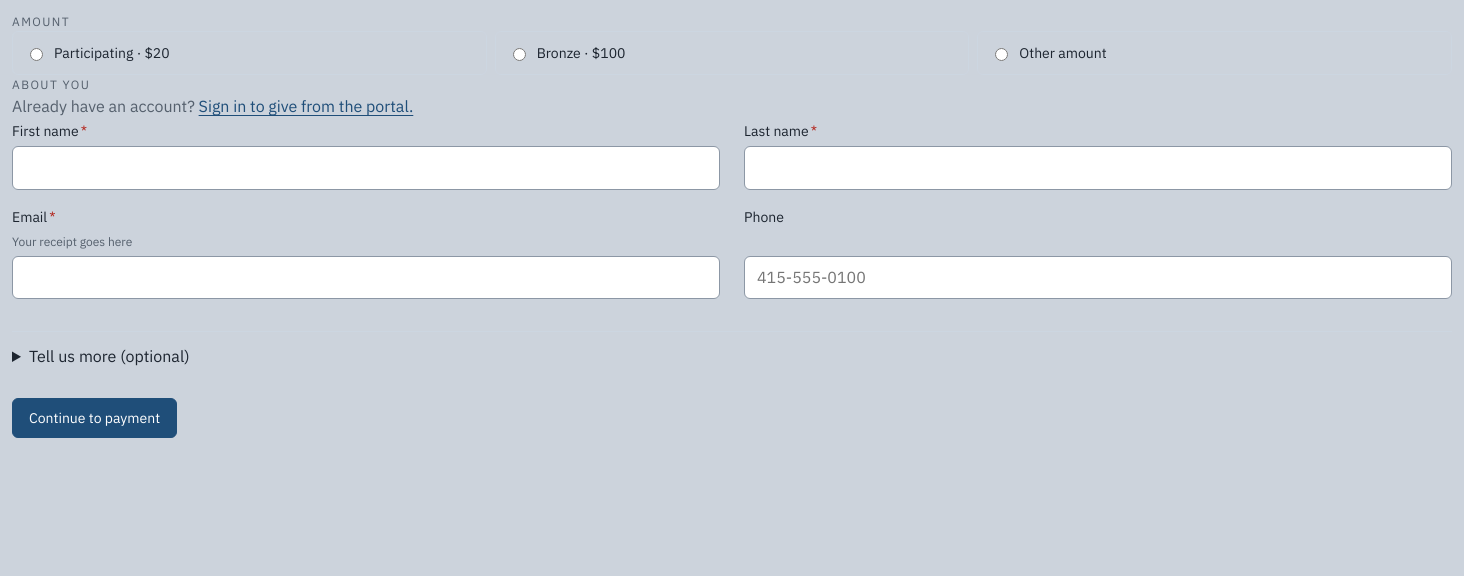
Test: DonationForm › says how small a gift may be
Click the radio button labelled "Other amount": (1002, 55) [995,48,1008,61]
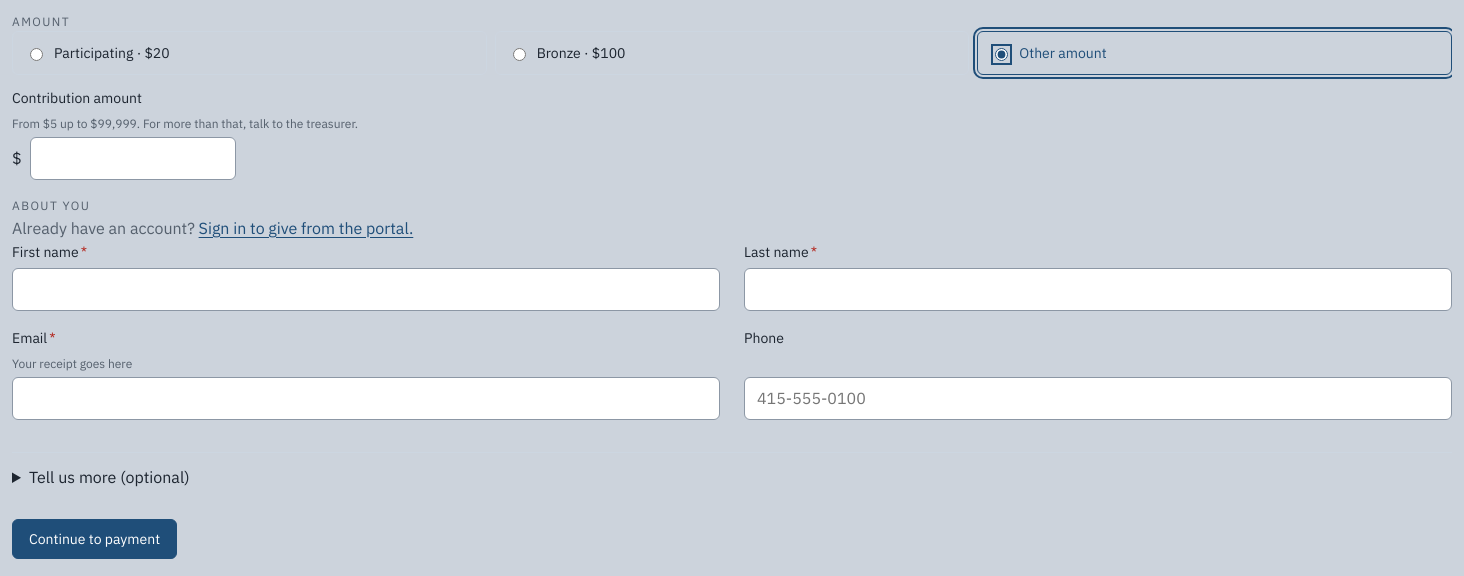
expect the text "From $5 up to $99,999" is shown: met, box [12,116,140,131]
